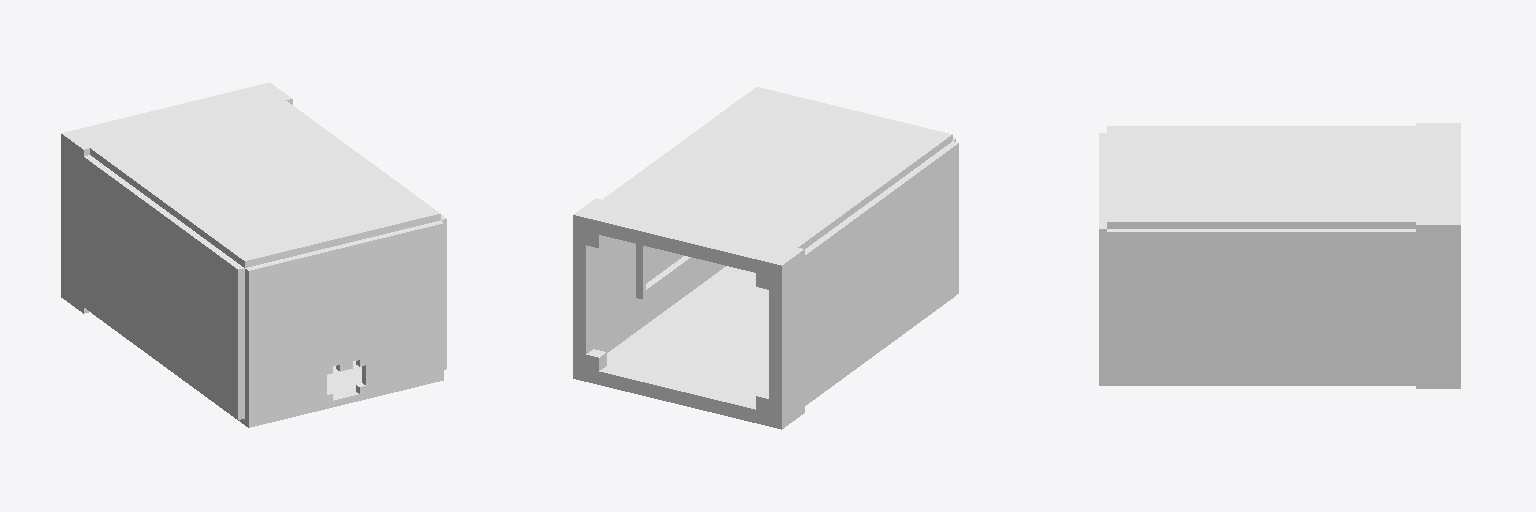
Rendered from Garrage_Ship.obj.
3 renders of one model, left to right at view 1: azimuth 30°, elevation 25°; view 2: azimuth 150°, elevation 25°; view 3: azimuth 270°, elevation 25°, orthographic.
Parts seen in each view (by area): view 1: object 1; view 2: object 1; view 3: object 1.
Boxes of the visible parts, x1=… form: object 1: x1=61, y1=82, x2=446, y2=427; object 1: x1=573, y1=87, x2=958, y2=429; object 1: x1=1099, y1=123, x2=1460, y2=388.
Bounding box in the file's own units: 3.2 × 2.4 × 4.8.